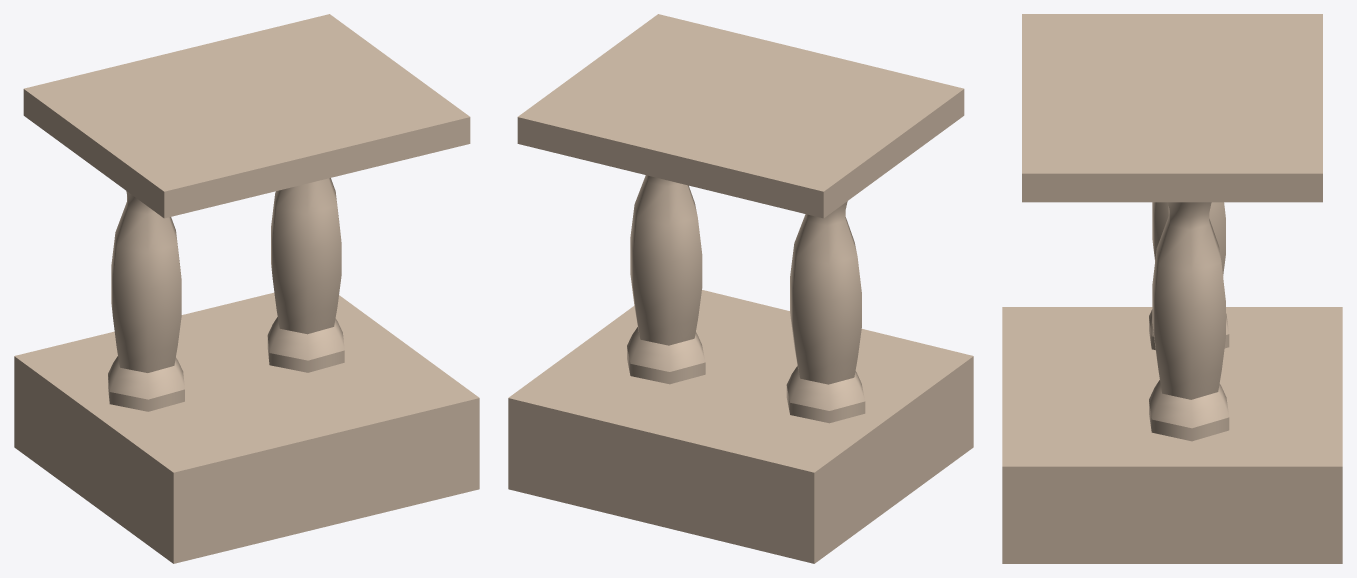
Rendered from BC_Frame_A_04.fbx.
3 renders of one model, left to right at view 1: azimuth 30°, elevation 25°; view 2: azimuth 150°, elevation 25°; view 3: azimuth 270°, elevation 25°, orthographic. The views are drawn at different scales.
Parts seen in each view (by area): view 1: BC_Frame_A_04; view 2: BC_Frame_A_04; view 3: BC_Frame_A_04.
Boxes of the visible parts, bbox=[...] form: BC_Frame_A_04: bbox=[14, 14, 479, 563]; BC_Frame_A_04: bbox=[508, 14, 973, 563]; BC_Frame_A_04: bbox=[1002, 14, 1342, 563].
Size of the model in its own units: 103 by 117 by 92.67.
